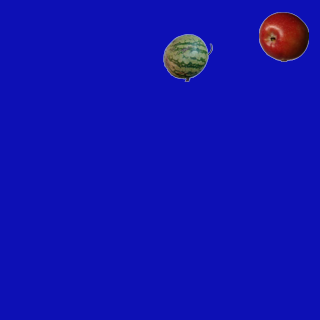Apple Braeburn: (258, 11, 308, 61)
Watermelon: (162, 32, 212, 82)
